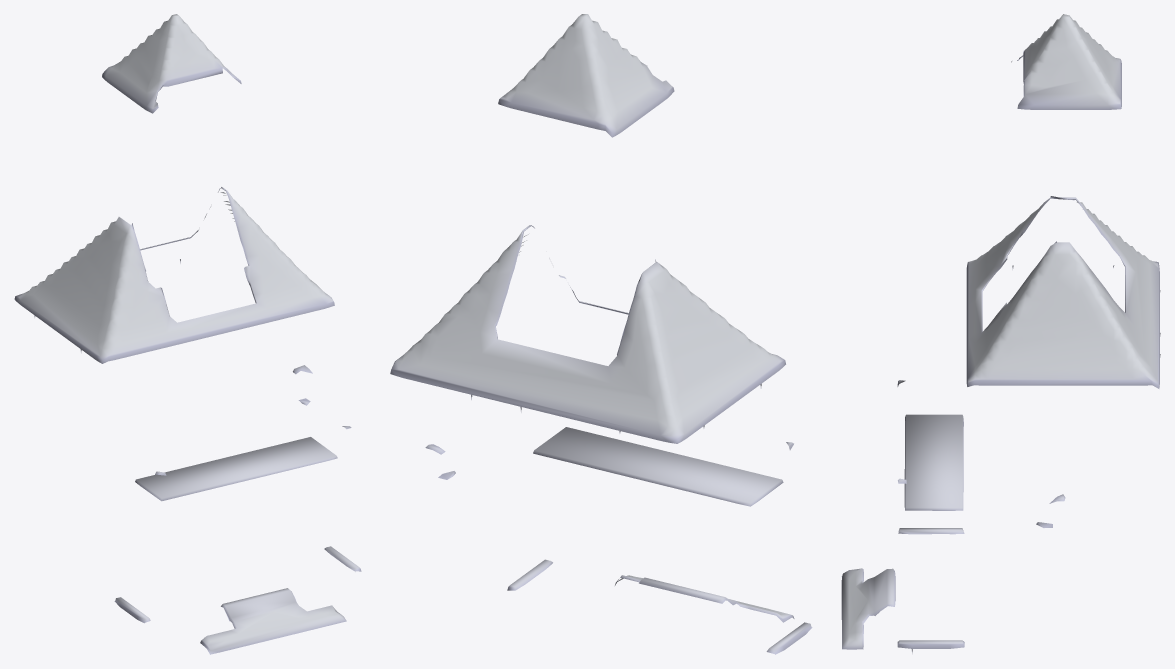
The model's file is category.governance.l.snow.glb.
3 renders of one model, left to right at view 1: azimuth 30°, elevation 25°; view 2: azimuth 150°, elevation 25°; view 3: azimuth 270°, elevation 25°, orthographic. The views are drawn at different scales.
Visible parts, largest first — view 1: snow; view 2: snow; view 3: snow.
Part boxes in pixels (x1,y1,x2,y2): snow: (14,14,361,654); snow: (390,14,812,654); snow: (841,14,1160,654).
Size of the model in its own units: 8.47 by 17.82 by 8.62.
